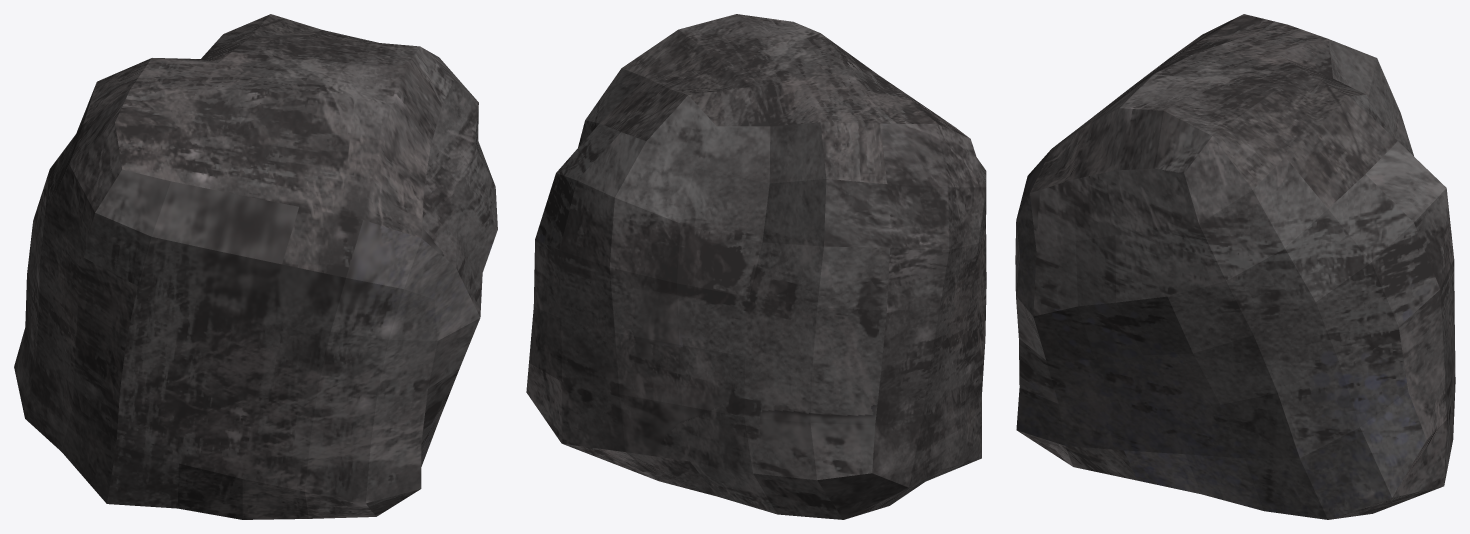
File: small lower poly rocks.fbx
3 renders of one model, left to right at view 1: azimuth 30°, elevation 25°; view 2: azimuth 150°, elevation 25°; view 3: azimuth 270°, elevation 25°, orthographic. The views are drawn at different scales.
Parts seen in each view (by area): view 1: rock 1 2.0; view 2: rock 1 2.0; view 3: rock 1 2.0.
Boxes of the visible parts, x1,y1,x2,y2 form: rock 1 2.0: (14,14,497,519); rock 1 2.0: (526,14,986,519); rock 1 2.0: (1015,14,1455,519).
Size of the model in its own units: 209 by 200 by 202.
